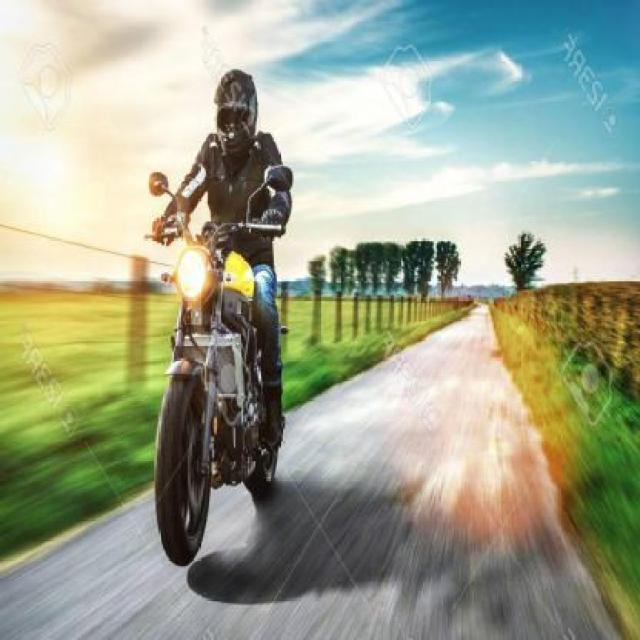helmet: (189, 65, 270, 175)
motorcycle: (100, 58, 316, 574)
